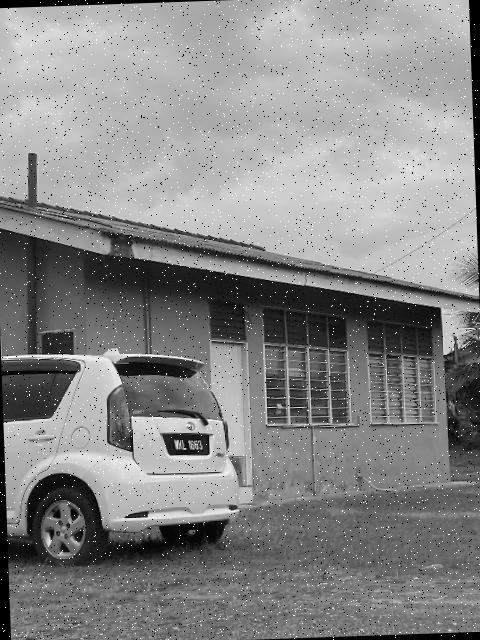License_Plate: (167, 435, 212, 461)
car: (2, 337, 244, 568)
